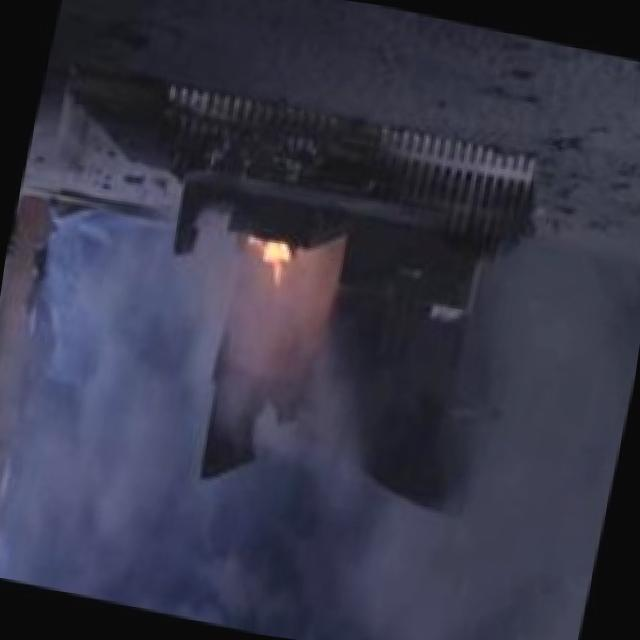fire: (220, 217, 326, 304)
smoke: (6, 269, 587, 640)
